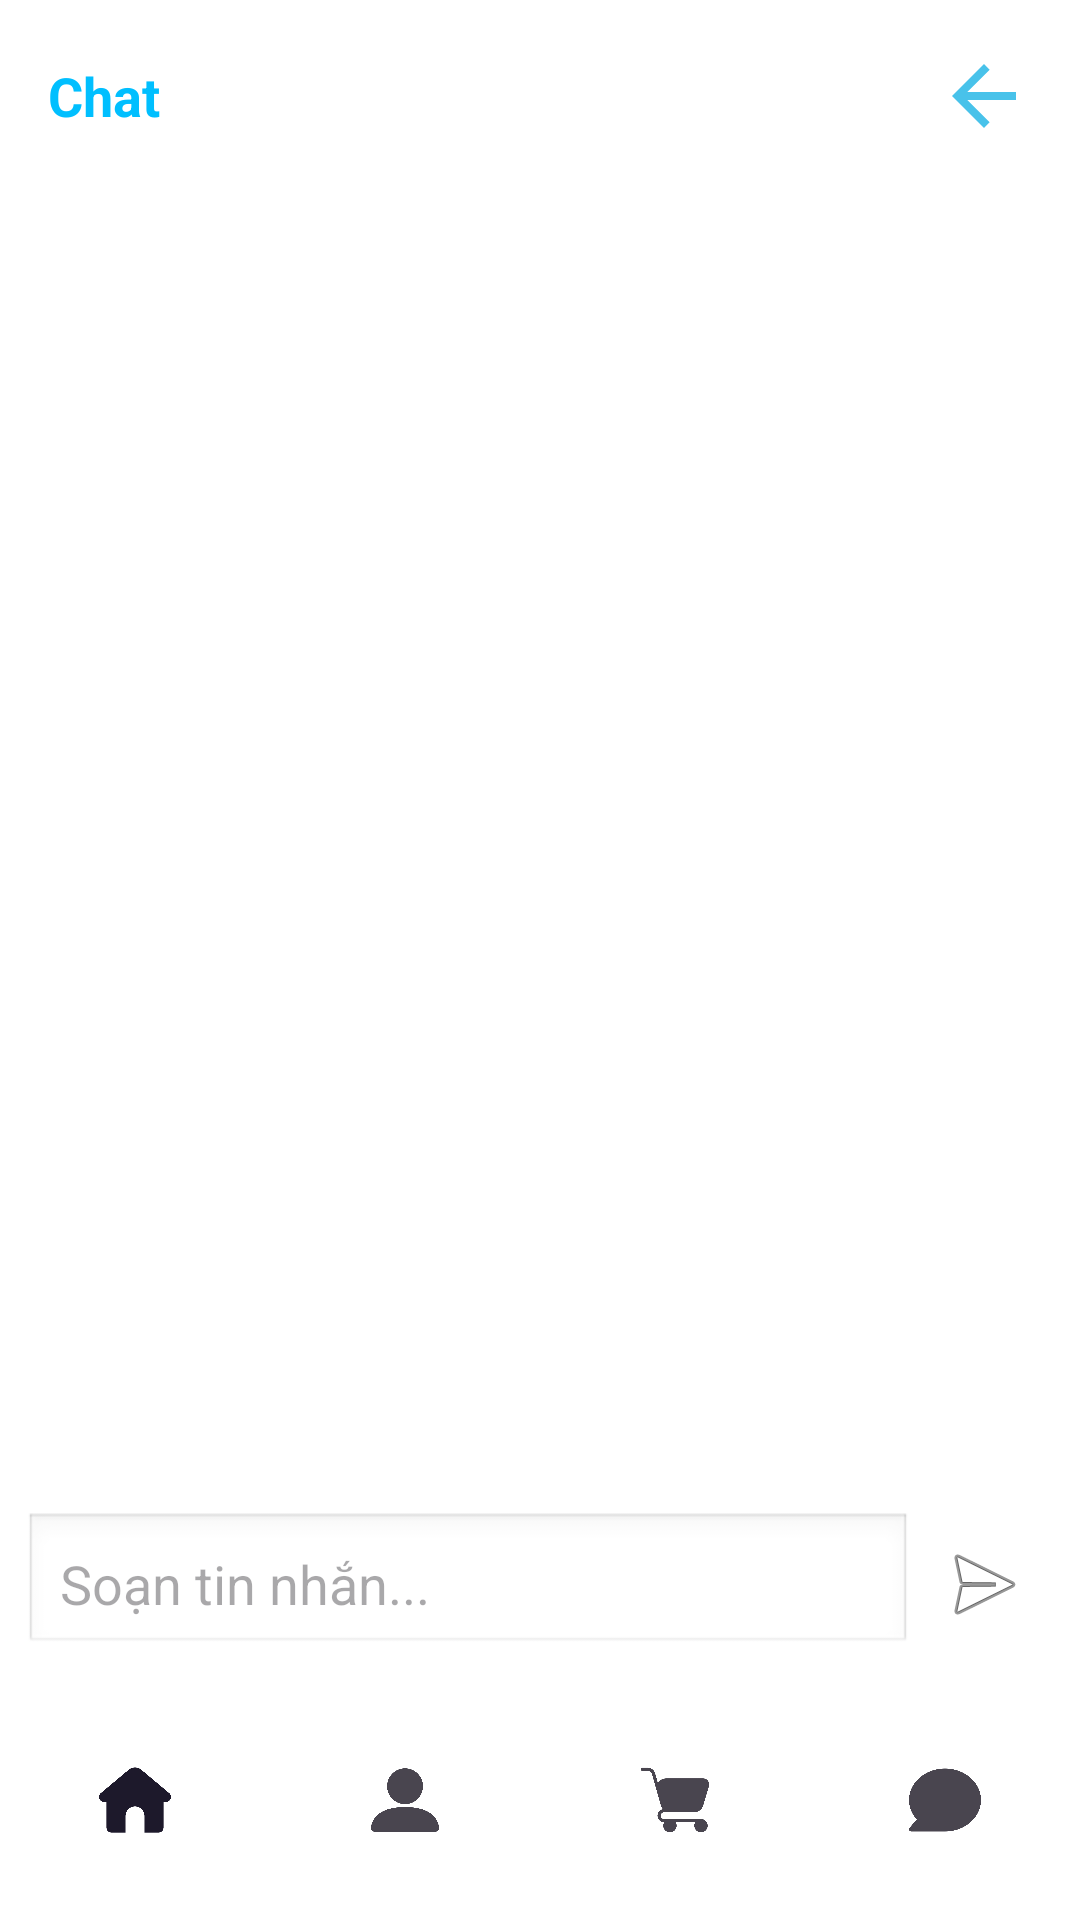

Named icons in this screenshot (1080*1920) and their bounding boxes, (x1, y1, x2, y2):
Back: (952, 64, 1016, 128)
Gửi: (954, 1554, 1016, 1615)
